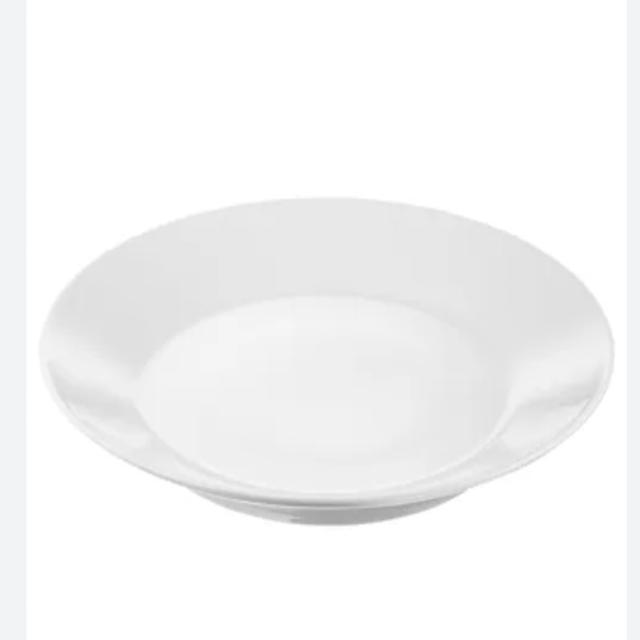recyclable: (26, 184, 626, 536)
